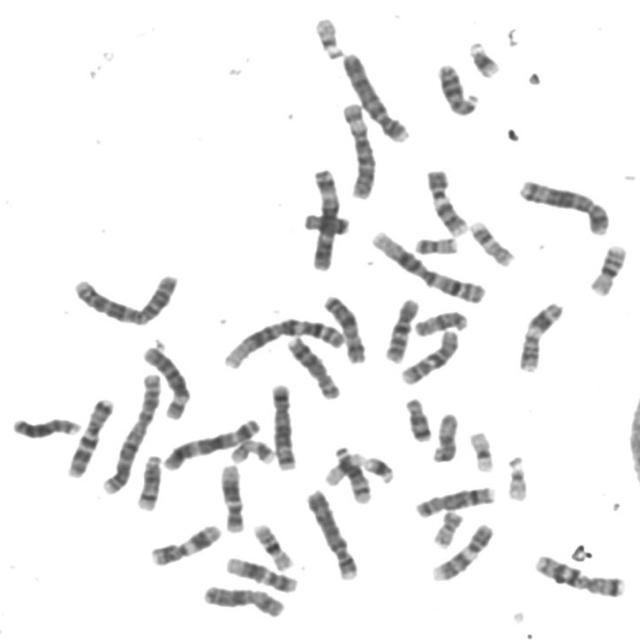A1: (365, 224, 488, 306), (217, 311, 348, 371)
A2: (96, 368, 162, 496), (66, 266, 181, 327)
A3: (157, 412, 264, 472), (304, 162, 342, 271)
B4: (337, 45, 412, 144), (301, 483, 360, 582)
B5: (513, 173, 612, 236), (265, 378, 299, 471)
C10: (394, 324, 460, 386), (379, 292, 421, 365)
C11: (513, 295, 565, 374), (144, 518, 223, 567)
C12: (220, 550, 299, 594), (215, 458, 247, 534)
C6: (335, 96, 379, 201), (137, 339, 192, 422)
C7: (528, 548, 628, 599), (61, 391, 116, 478)
C8: (282, 330, 342, 400), (409, 480, 498, 519)
C9: (426, 517, 496, 583), (420, 163, 471, 238)
D13: (433, 57, 482, 117), (6, 410, 82, 440)
D14: (329, 440, 374, 505), (131, 448, 164, 512)
D15: (408, 304, 471, 337), (426, 406, 461, 464)
E16: (584, 238, 630, 297), (247, 517, 296, 572)
E17: (464, 214, 516, 268), (224, 434, 277, 466)
E18: (399, 391, 434, 444), (298, 207, 353, 236)
F19: (319, 447, 366, 486), (463, 425, 497, 474)
F20: (426, 504, 466, 549), (409, 230, 460, 256)
G21: (463, 35, 503, 79), (358, 450, 396, 485)
G22: (309, 10, 346, 61), (500, 448, 530, 502)
X: (318, 289, 368, 365), (197, 578, 287, 619)
